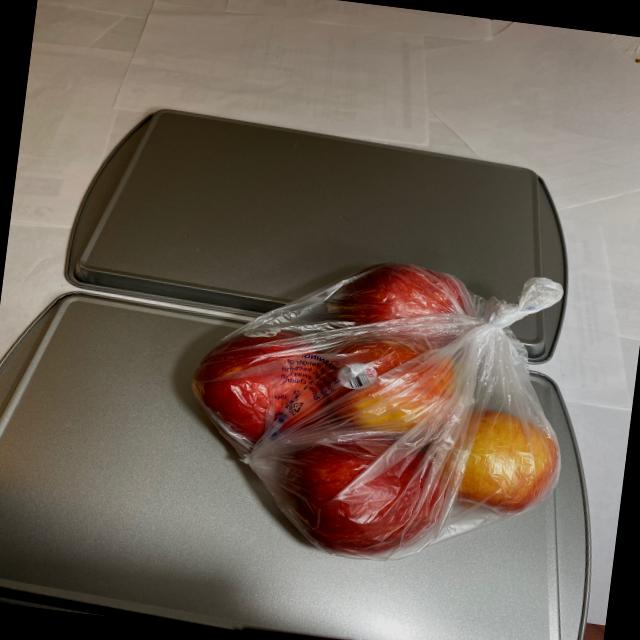apple: (162, 237, 590, 578)
